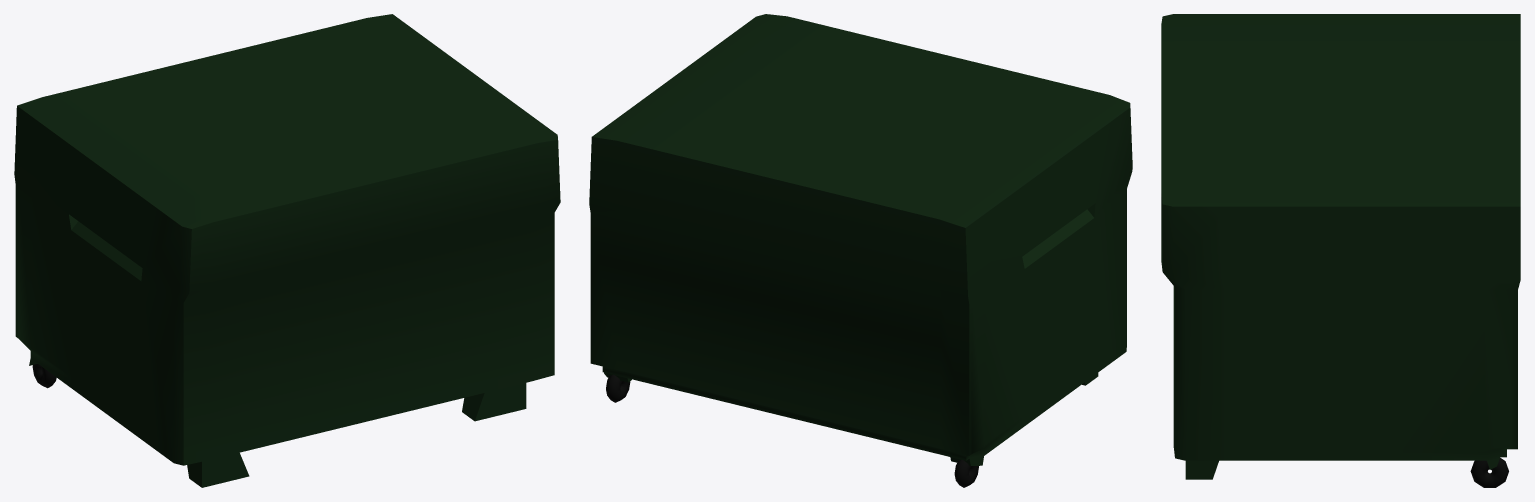
The model's file is garbage.fbx.
The picture shows the model from 3 angles, left to right: view 1: azimuth 30°, elevation 25°; view 2: azimuth 150°, elevation 25°; view 3: azimuth 270°, elevation 25°; orthographic projection. The views are drawn at different scales.
Parts seen in each view (by area): view 1: Garbage; view 2: Garbage; view 3: Garbage.
Boxes of the visible parts, bbox=[...] form: Garbage: bbox=[14, 14, 560, 487]; Garbage: bbox=[589, 14, 1132, 487]; Garbage: bbox=[1161, 14, 1520, 487].
Size of the model in its own units: 25.14 by 19.55 by 17.38.
